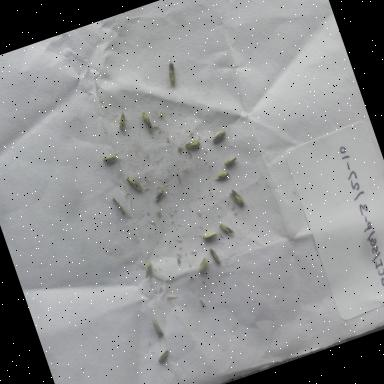pbw: (226, 185, 249, 213), (124, 172, 146, 198), (137, 109, 157, 136), (148, 316, 168, 342), (218, 219, 239, 242), (153, 346, 174, 368), (113, 110, 132, 134), (110, 194, 128, 219), (193, 255, 214, 276), (198, 224, 221, 243), (206, 244, 224, 268), (140, 259, 158, 283), (99, 148, 120, 168), (208, 127, 229, 147), (182, 135, 204, 154), (151, 186, 169, 204), (212, 168, 232, 184), (221, 152, 240, 167)
